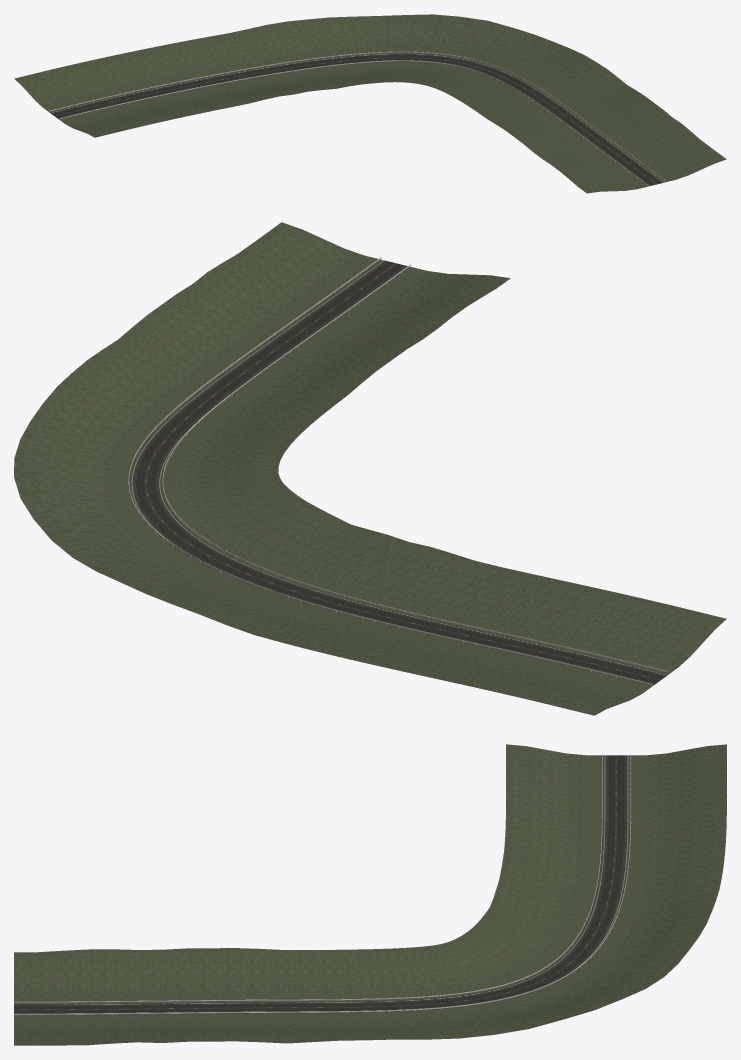
3 renders of one model, top to bottom at view 1: azimuth 30°, elevation 25°; view 2: azimuth 150°, elevation 25°; view 3: azimuth 270°, elevation 25°, orthographic. The views are drawn at different scales.
Visible parts, largest first — view 1: Grass, HighWay, GuardRail; view 2: Grass, HighWay, GuardRail; view 3: Grass, HighWay, GuardRail.
Boxes of the visible parts, x1,y1,x2,y2 form: Grass: (14, 14, 726, 193); HighWay: (49, 53, 664, 186); GuardRail: (49, 51, 665, 185); Grass: (14, 222, 726, 715); HighWay: (129, 260, 668, 686); GuardRail: (128, 257, 669, 684); Grass: (14, 744, 726, 1045); HighWay: (14, 755, 630, 1015); GuardRail: (14, 753, 631, 1015).
Size of what is drawn, in the model's own units: 355 by 12.04 by 355.
